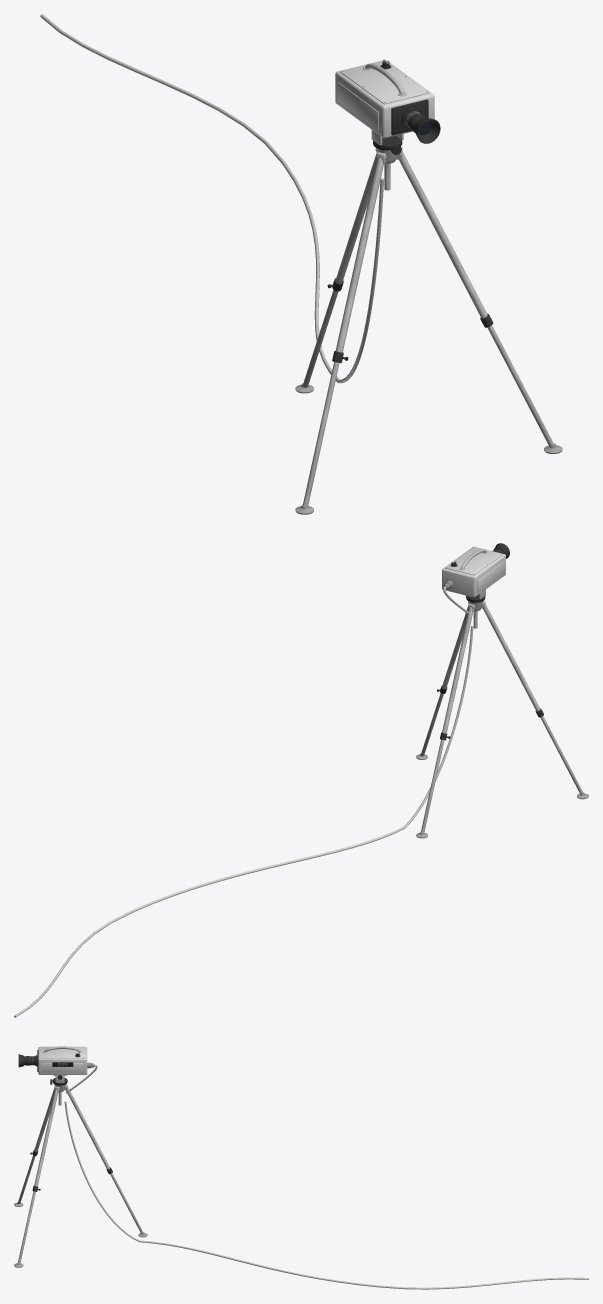
Rendered from tv-camera.glb.
The picture shows the model from 3 angles, top to bottom: view 1: azimuth 30°, elevation 25°; view 2: azimuth 150°, elevation 25°; view 3: azimuth 270°, elevation 25°; orthographic projection. The views are drawn at different scales.
Visible parts, largest first — view 1: tripod-geo, camera-body-geo, cable-geo, lens-geo; view 2: tripod-geo, camera-body-geo, cable-geo; view 3: tripod-geo, camera-body-geo, cable-geo.
Part boxes in pixels (<box>): tripod-geo: <box>295,147,562,514</box>; camera-body-geo: <box>335,59,434,138</box>; cable-geo: <box>40,14,384,383</box>; lens-geo: <box>401,107,440,143</box>; tripod-geo: <box>416,600,588,838</box>; camera-body-geo: <box>442,546,505,614</box>; cable-geo: <box>14,626,473,1017</box>; tripod-geo: <box>14,1084,147,1267</box>; camera-body-geo: <box>37,1046,97,1093</box>; cable-geo: <box>64,1101,588,1289</box>.
Size of the model in its own units: 1.17 by 1.18 by 3.26.
8 materials, 4 textured.
